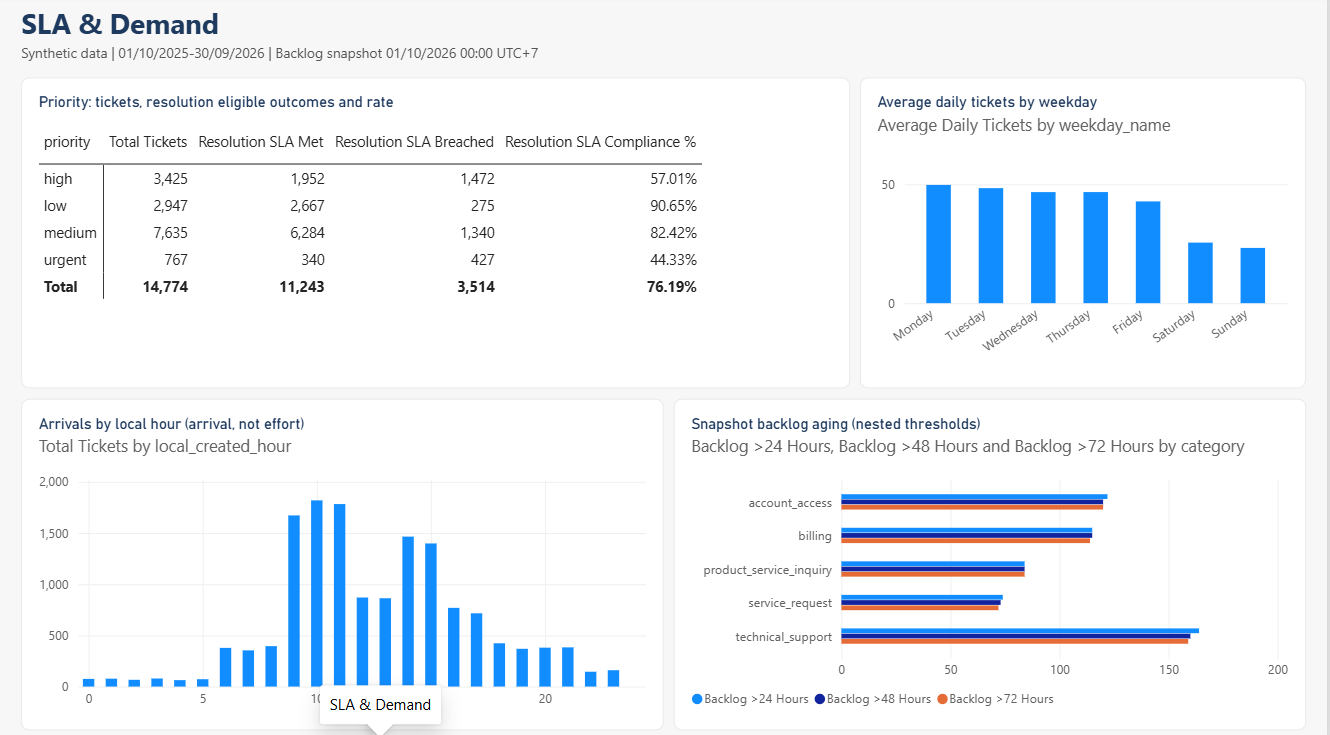

Layout of this report page (visuals, bound fields, positions):
{"tool":"powerbi","page":{"name":"SLA & Demand","canvas":[1280,720],"ordinal":1},"visuals":[{"type":"textbox","box":[20,8,900,40],"z":11},{"type":"textbox","box":[20,46,1240,24],"z":12},{"type":"pivotTable","title":"Priority: tickets, resolution eligible outcomes and rate","fields":{"Rows":["fact_tickets.priority"],"Values":["fact_tickets.Total Tickets","fact_tickets.Resolution SLA Met","fact_tickets.Resolution SLA Breached","fact_tickets.Resolution SLA Compliance %"]},"box":[20,80,800,300],"z":13},{"type":"clusteredColumnChart","title":"Average daily tickets by weekday","fields":{"Category":["dim_date.weekday_name"],"Y":["fact_tickets.Average Daily Tickets"]},"box":[830,80,430,300],"z":14},{"type":"clusteredColumnChart","title":"Arrivals by local hour (arrival, not effort)","fields":{"Category":["fact_tickets.local_created_hour"],"Y":["fact_tickets.Total Tickets"]},"box":[20,390,620,320],"z":15},{"type":"clusteredBarChart","title":"Snapshot backlog aging (nested thresholds)","fields":{"Category":["dim_categories.category"],"Y":["fact_tickets.Backlog >24 Hours","fact_tickets.Backlog >48 Hours","fact_tickets.Backlog >72 Hours"]},"box":[650,390,610,320],"z":16}]}

Visuals, with their boxes in screenshot pixels (x1, y1, x2, y2), scaled from the page's 1280x720 canvas onto the 1330x735 screenshot:
textbox: [x1=21, y1=8, x2=956, y2=49]
textbox: [x1=21, y1=47, x2=1309, y2=71]
"Priority: tickets, resolution eligible outcomes and rate" pivotTable: [x1=21, y1=82, x2=852, y2=388]
"Average daily tickets by weekday" clusteredColumnChart: [x1=862, y1=82, x2=1309, y2=388]
"Arrivals by local hour (arrival, not effort)" clusteredColumnChart: [x1=21, y1=398, x2=665, y2=725]
"Snapshot backlog aging (nested thresholds)" clusteredBarChart: [x1=675, y1=398, x2=1309, y2=725]
